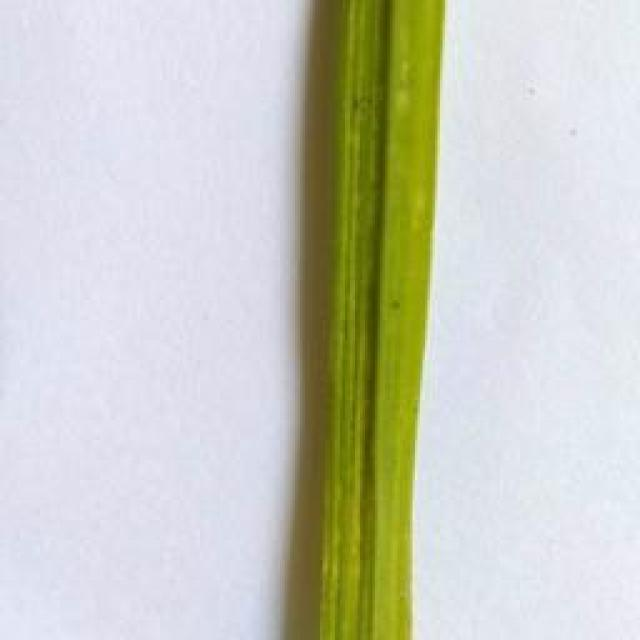Healthy-Plant: (314, 0, 452, 640)
